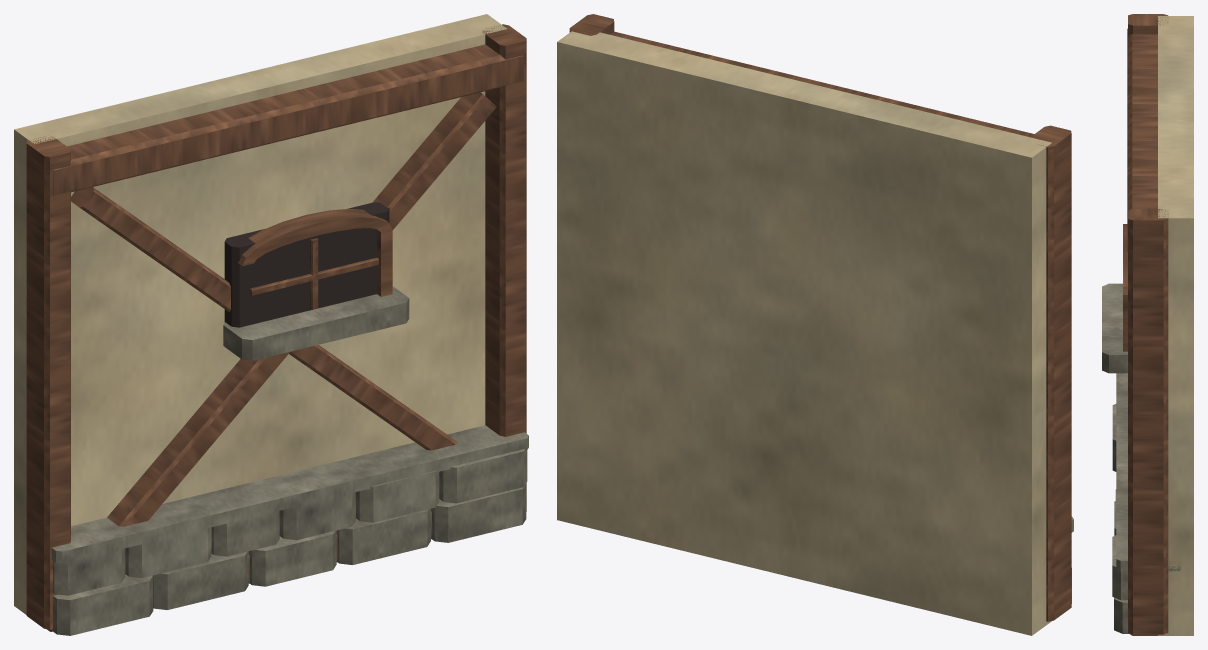
File: wall_service.glb
The picture shows the model from 3 angles, left to right: view 1: azimuth 30°, elevation 25°; view 2: azimuth 150°, elevation 25°; view 3: azimuth 270°, elevation 25°; orthographic projection. The views are drawn at different scales.
Visible parts, largest first — view 1: Wall Service; view 2: Wall Service; view 3: Wall Service.
Part boxes in pixels (x1,y1,x2,y2): Wall Service: (14,14,528,635); Wall Service: (557,14,1073,635); Wall Service: (1102,14,1193,635).
Bounding box in the file's own units: 3.26 × 3.09 × 0.613.
Materials: 5 (3 with a texture image).
